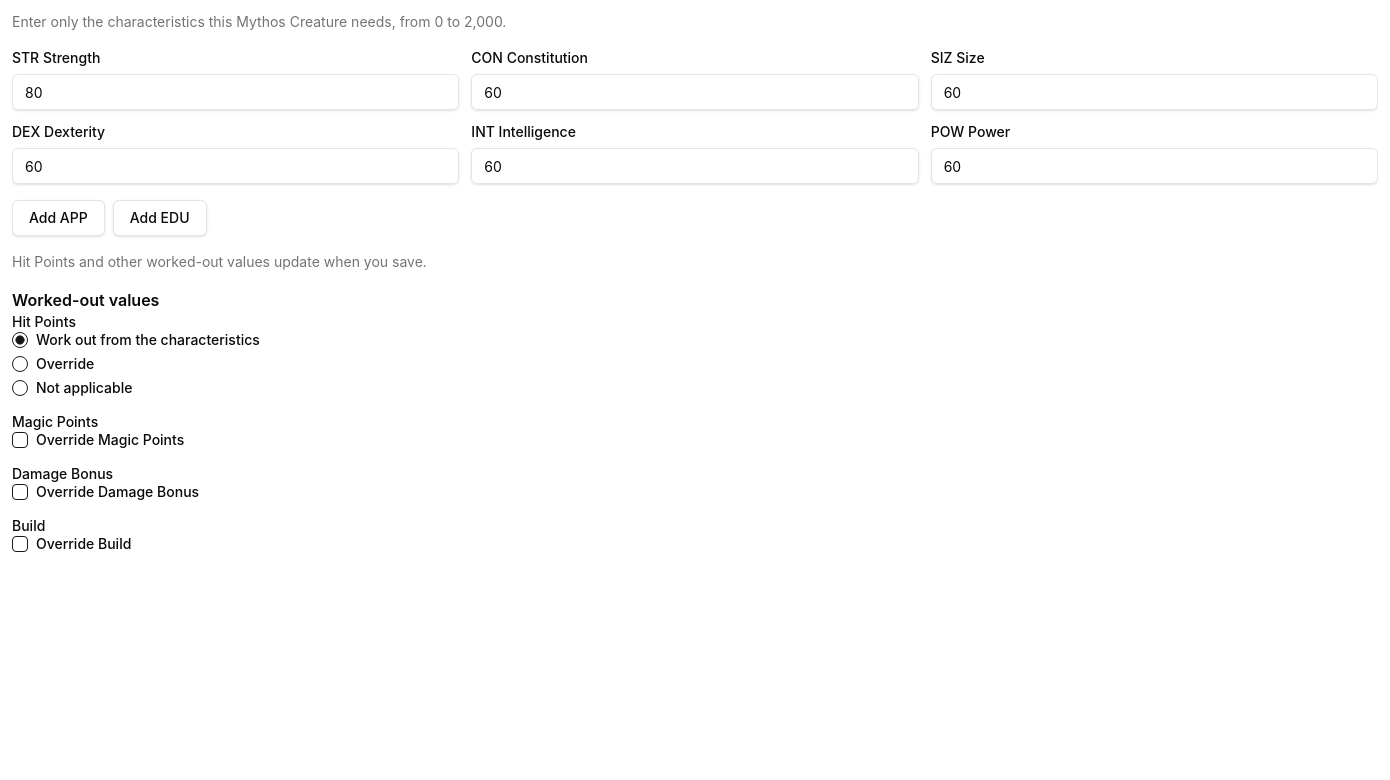
Scenario: MonsterCharacteristicsFields › replaces Add APP with its input and moves focus there when activated (SP-UX-49)
The width and height of the screenshot is (1390, 780).
Click the button "Add APP" at point(58, 218), box [12,200,105,236]
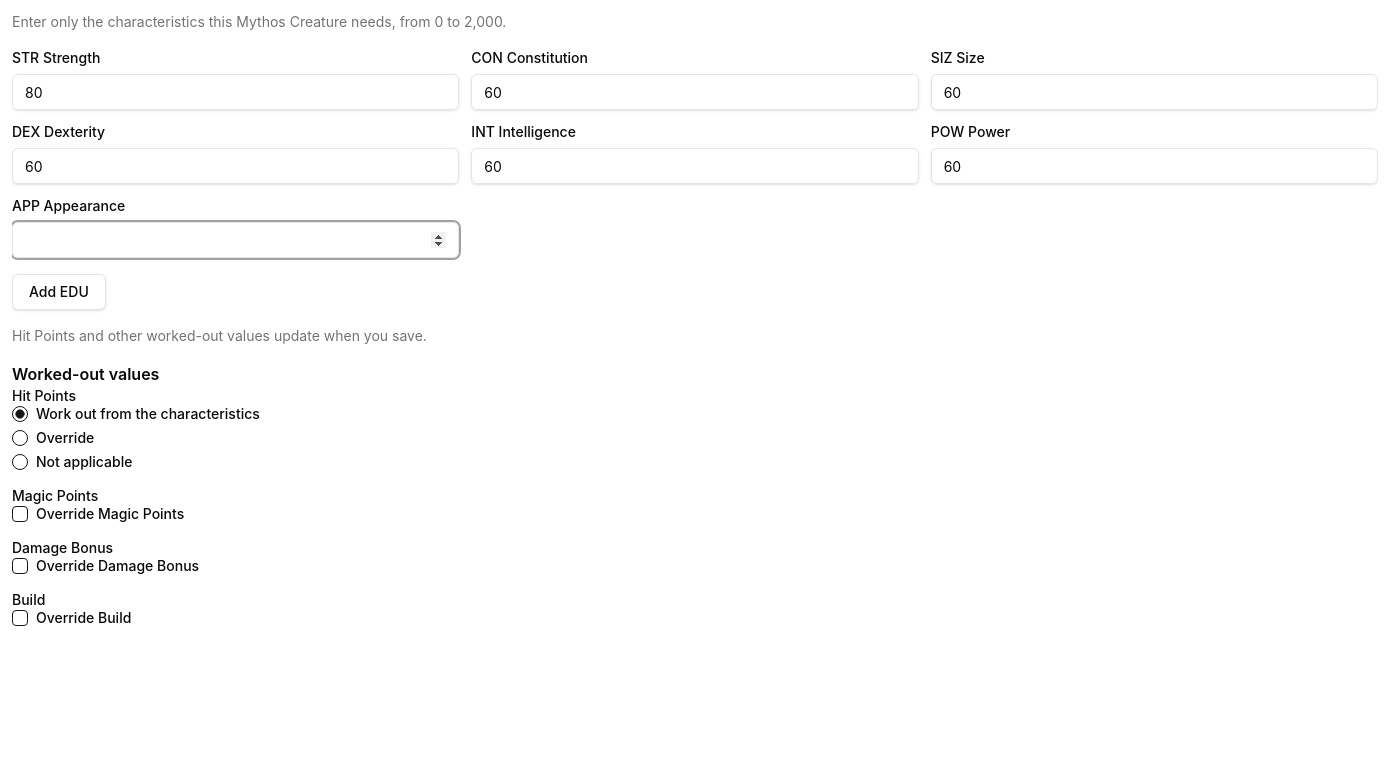
Expected: the button "Add APP" is gone
